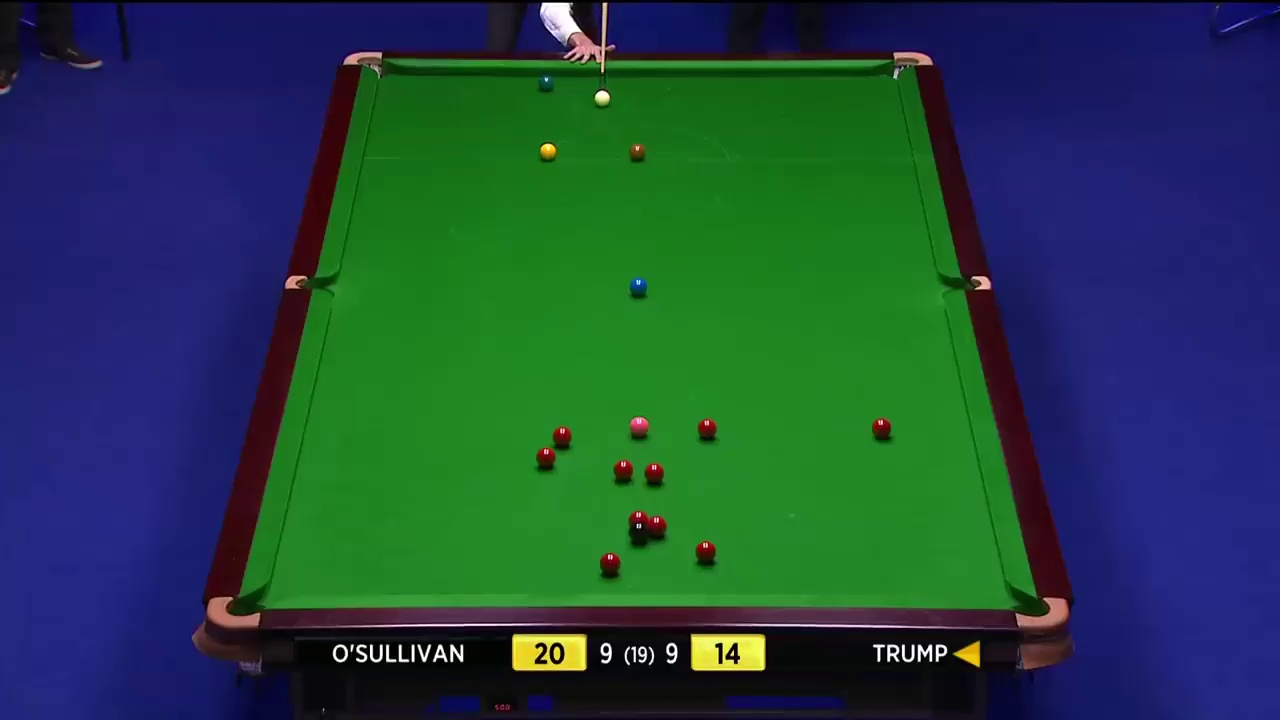ball: (598, 549, 624, 575), (624, 277, 649, 301), (536, 139, 560, 161), (644, 462, 667, 484), (627, 520, 649, 543), (628, 415, 650, 437), (694, 540, 715, 563), (589, 87, 613, 107), (533, 446, 554, 468), (612, 457, 633, 478), (627, 142, 648, 162), (550, 425, 570, 446), (696, 418, 715, 440), (874, 415, 893, 437), (537, 76, 554, 91)
